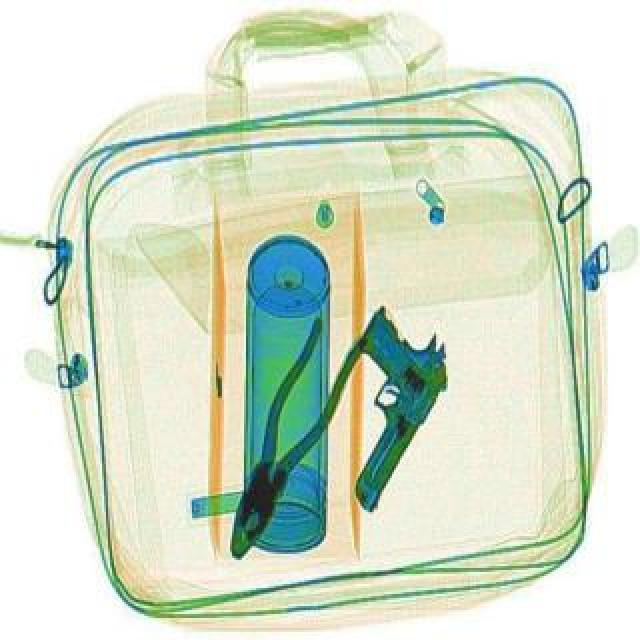gun: (284, 300, 466, 512)
wrench: (204, 312, 368, 568)
